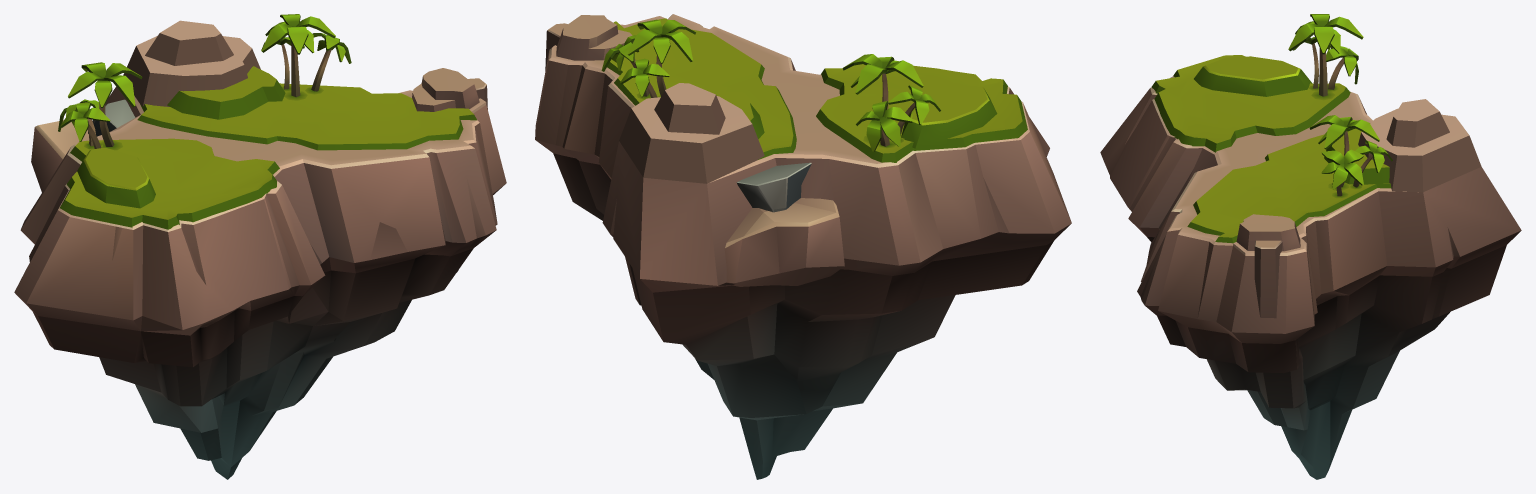
The model's file is Pirate_Mid_Island_1.fbx.
3 views of the same model, side by side, from view 1: azimuth 30°, elevation 25°; view 2: azimuth 150°, elevation 25°; view 3: azimuth 270°, elevation 25° (orthographic). The views are drawn at different scales.
Parts seen in each view (by area): view 1: Plane.007, Plane.019, Plane.017, Plane.021, Plane.018, Plane.049, Plane.046, Plane.025, Plane.050, Plane.047, Plane.066; view 2: Plane.007, Plane.019, Plane.017, Plane.025, Plane.018, Plane.066, Plane.046, Plane.049, Plane.051, Plane.050, Plane.048, Plane.047; view 3: Plane.007, Plane.019, Plane.017, Plane.018, Plane.049, Plane.046, Plane.047, Plane.021, Plane.051, Plane.048.
Part boxes in pixels (bbox=[...]): Plane.007: bbox=[14, 86, 506, 479]; Plane.019: bbox=[60, 83, 476, 229]; Plane.017: bbox=[123, 20, 260, 106]; Plane.021: bbox=[167, 66, 285, 119]; Plane.018: bbox=[412, 68, 487, 111]; Plane.049: bbox=[68, 62, 142, 150]; Plane.046: bbox=[261, 14, 335, 100]; Plane.025: bbox=[31, 120, 89, 192]; Plane.050: bbox=[60, 102, 110, 148]; Plane.047: bbox=[305, 33, 351, 94]; Plane.066: bbox=[88, 99, 135, 136]; Plane.007: bbox=[535, 14, 1071, 479]; Plane.019: bbox=[607, 18, 1027, 162]; Plane.017: bbox=[619, 83, 764, 183]; Plane.025: bbox=[724, 198, 844, 286]; Plane.018: bbox=[545, 15, 633, 70]; Plane.066: bbox=[736, 162, 811, 212]; Plane.046: bbox=[628, 19, 695, 97]; Plane.049: bbox=[842, 54, 923, 143]; Plane.051: bbox=[856, 101, 912, 151]; Plane.050: bbox=[888, 85, 940, 142]; Plane.048: bbox=[620, 58, 669, 97]; Plane.047: bbox=[601, 35, 650, 99]; Plane.007: bbox=[1100, 76, 1521, 479]; Plane.019: bbox=[1151, 55, 1391, 243]; Plane.017: bbox=[1358, 99, 1481, 192]; Plane.018: bbox=[1236, 214, 1300, 318]; Plane.049: bbox=[1288, 14, 1363, 100]; Plane.046: bbox=[1309, 115, 1379, 190]; Plane.047: bbox=[1321, 149, 1363, 198]; Plane.021: bbox=[1324, 130, 1389, 184]; Plane.051: bbox=[1325, 46, 1358, 91]; Plane.048: bbox=[1350, 140, 1392, 189].
Size of the model in its own units: 83.91 by 71.54 by 67.92.
